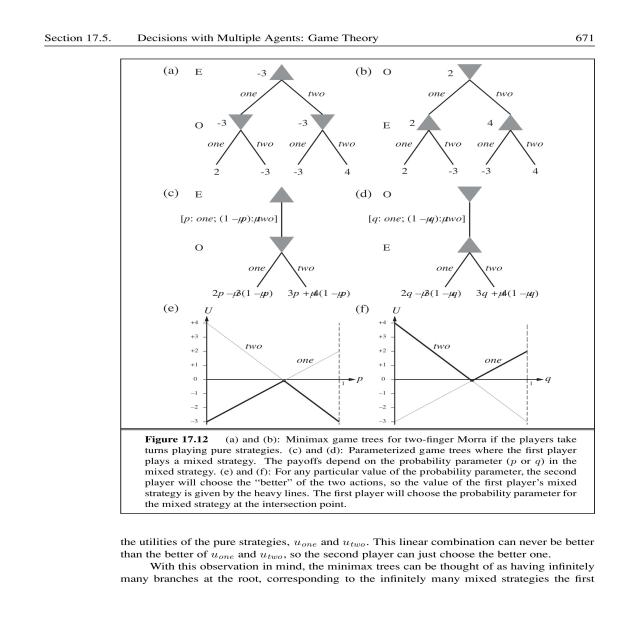diagram: (121, 56, 588, 517)
